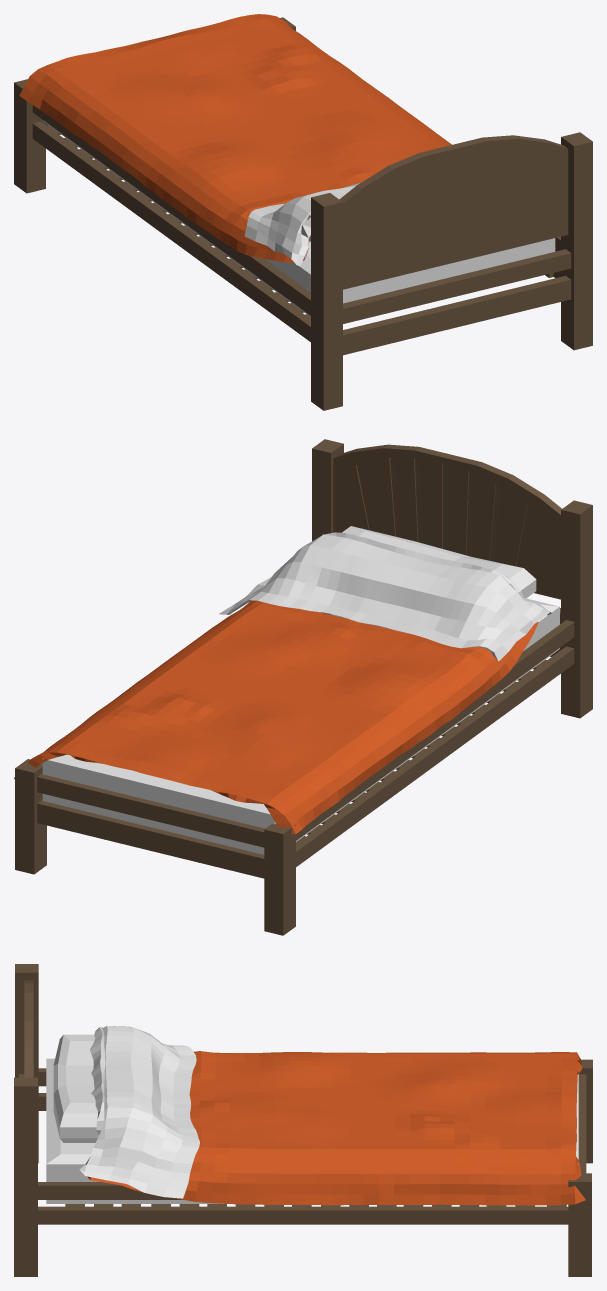
File: bed-tidy-covers-fbx.fbx
3 renders of one model, top to bottom at view 1: azimuth 30°, elevation 25°; view 2: azimuth 150°, elevation 25°; view 3: azimuth 270°, elevation 25°, orthographic. The views are drawn at different scales.
Visible parts, largest first — view 1: blanket, back, side-left, mattress, covers, bed-foot, slats; view 2: blanket, back, covers, bed-foot, side-left, mattress, pillow; view 3: blanket, covers, side-right, back, pillow, bed-foot, mattress, slats.
Part boxes in pixels (left/top/right/bottom): blanket: left=19, top=14, right=451, bottom=262; back: left=311, top=132, right=592, bottom=410; side-left: left=32, top=105, right=310, bottom=341; mattress: left=43, top=120, right=555, bottom=316; covers: left=244, top=183, right=359, bottom=266; bed-foot: left=14, top=17, right=295, bottom=193; slats: left=47, top=125, right=310, bottom=318; blanket: left=14, top=600, right=538, bottom=834; back: left=312, top=439, right=592, bottom=718; covers: left=219, top=532, right=551, bottom=661; bed-foot: left=15, top=759, right=295, bottom=935; side-left: left=296, top=620, right=574, bottom=866; mattress: left=42, top=598, right=559, bottom=854; pillow: left=342, top=526, right=536, bottom=598; blanket: left=87, top=1051, right=585, bottom=1205; covers: left=79, top=1025, right=199, bottom=1198; side-right: left=38, top=1182, right=568, bottom=1224; back: left=14, top=964, right=38, bottom=1276; pillow: left=53, top=1034, right=98, bottom=1142; bed-foot: left=568, top=1059, right=592, bottom=1276; mattress: left=46, top=1058, right=578, bottom=1203; slats: left=65, top=1204, right=566, bottom=1206.
Size of the model in its own units: 1.07 by 0.8 by 2.
